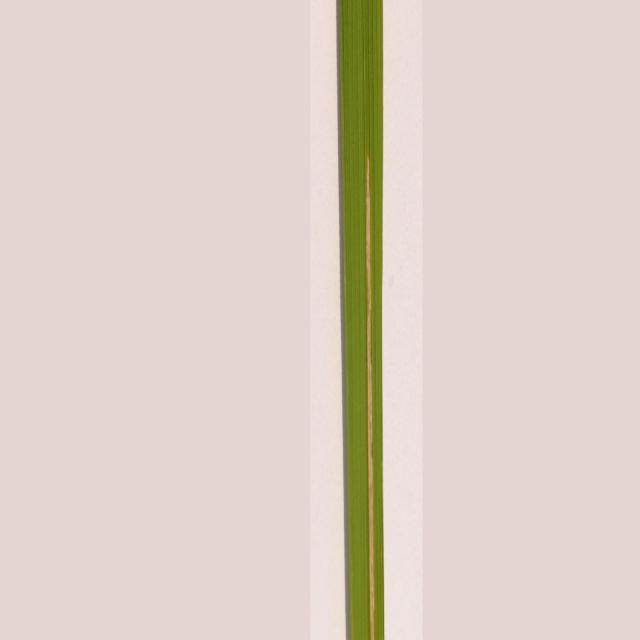Bacterial leaf blight: (309, 0, 422, 640)
